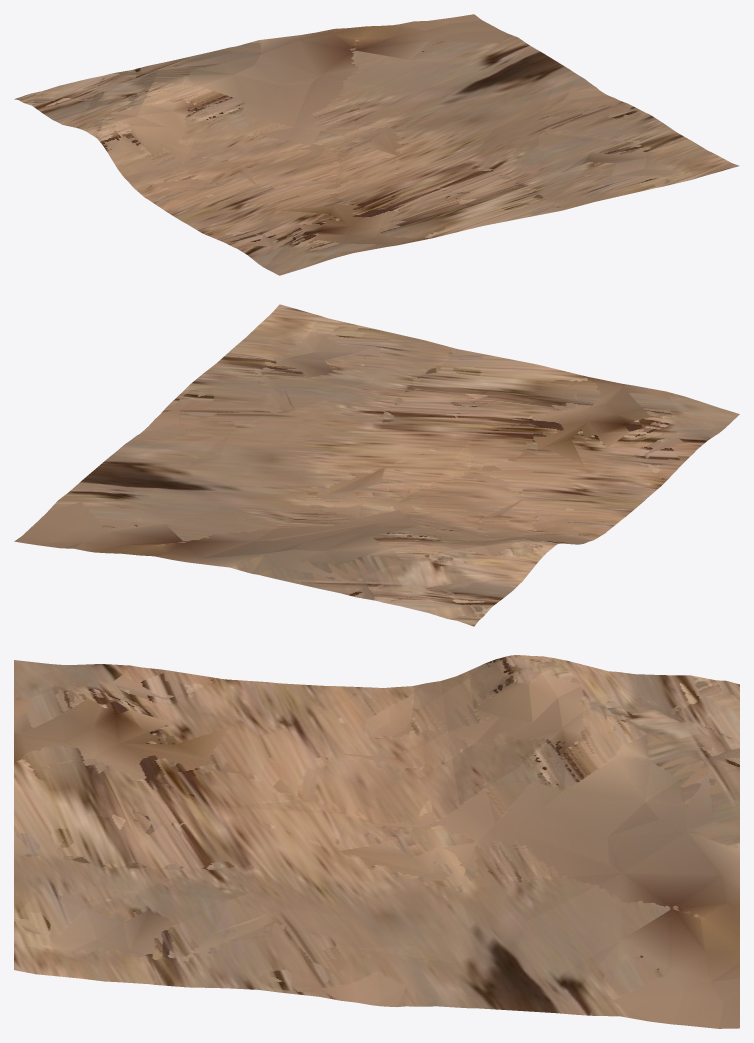
3 views of the same model, one above another, from view 1: azimuth 30°, elevation 25°; view 2: azimuth 150°, elevation 25°; view 3: azimuth 270°, elevation 25° (orthographic). The views are drawn at different scales.
Bounding box in the file's own units: 2.09 × 0.222 × 2.09.
2 materials, 2 textured.
